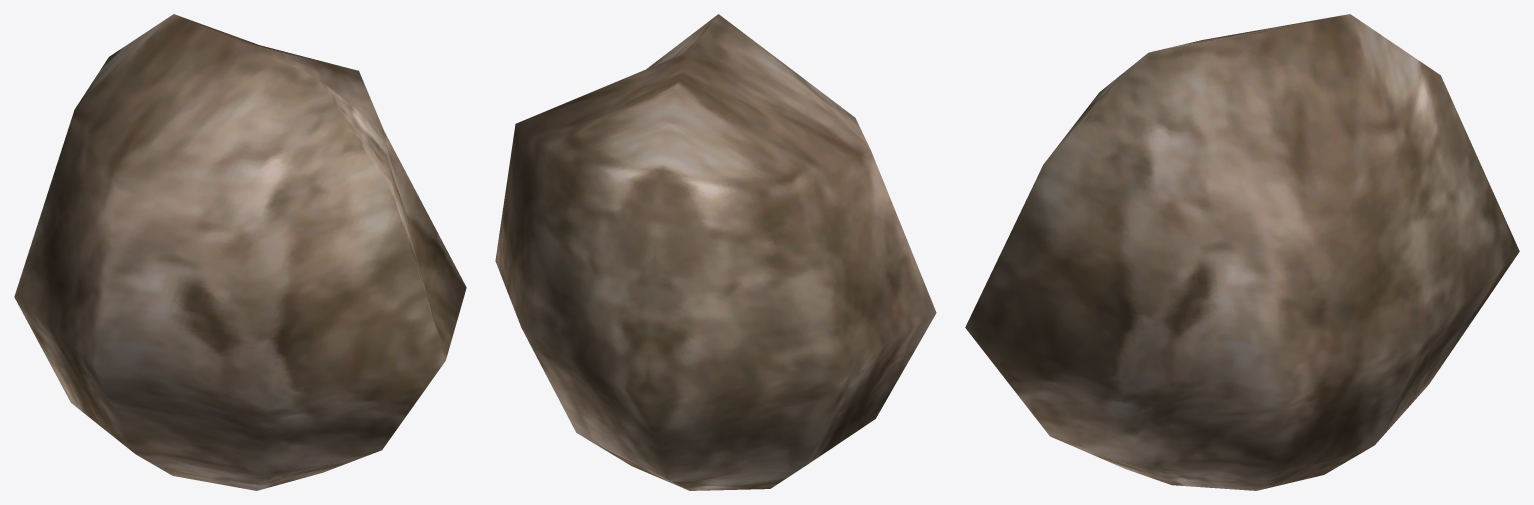
Rendered from OVERHILL_A_01_ROCK201.fbx.
3 views of the same model, side by side, from view 1: azimuth 30°, elevation 25°; view 2: azimuth 150°, elevation 25°; view 3: azimuth 270°, elevation 25° (orthographic). The views are drawn at different scales.
Visible parts, largest first — view 1: OVERHILL_A_01_ROCK201; view 2: OVERHILL_A_01_ROCK201; view 3: OVERHILL_A_01_ROCK201.
Part boxes in pixels (left/top/right/bottom): OVERHILL_A_01_ROCK201: left=14, top=14, right=466, bottom=490; OVERHILL_A_01_ROCK201: left=495, top=14, right=936, bottom=490; OVERHILL_A_01_ROCK201: left=965, top=14, right=1519, bottom=490.
Bounding box in the file's own units: 9989 × 10173 × 11875.
Materials: 1 (1 with a texture image).
